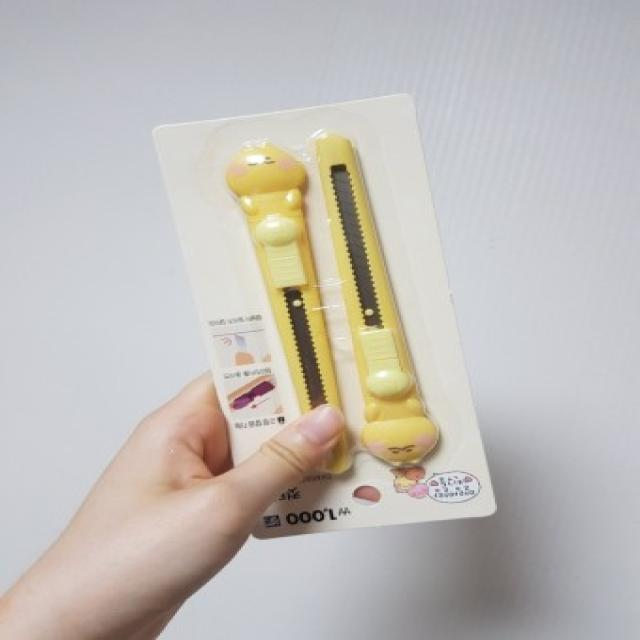cutter: (309, 119, 444, 489), (218, 143, 356, 477)
